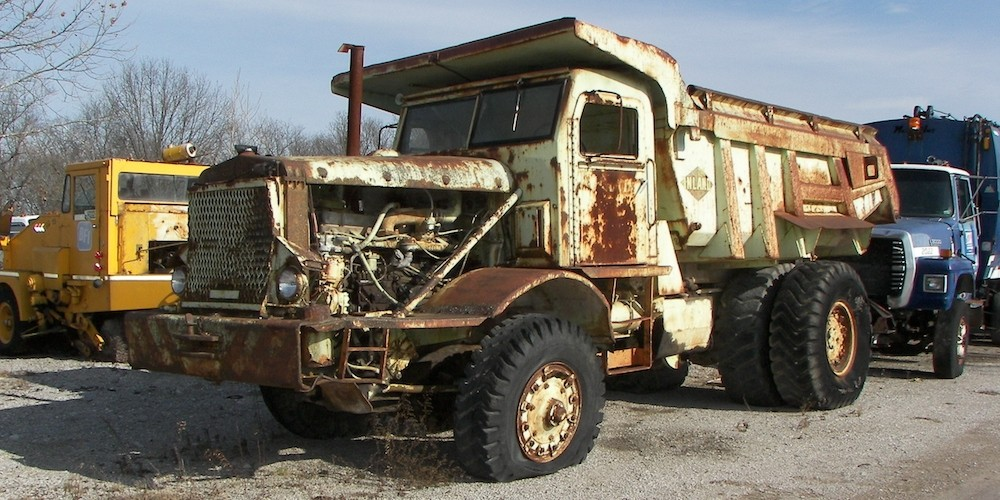truck: (140, 12, 900, 469)
